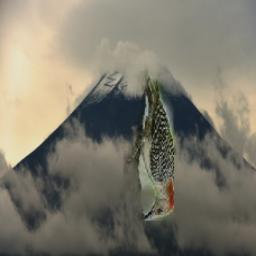Woodpecker: (125, 66, 175, 222)
